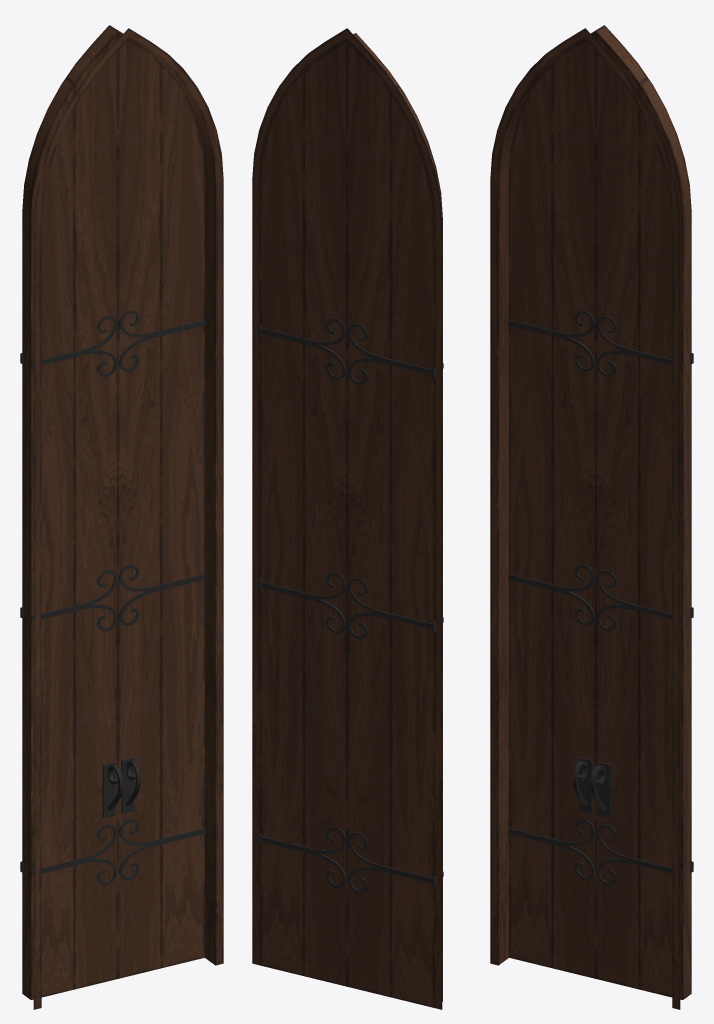
Rendered from Door_G_Frame.fbx.
3 renders of one model, left to right at view 1: azimuth 30°, elevation 25°; view 2: azimuth 150°, elevation 25°; view 3: azimuth 330°, elevation 25°, orthographic.
Parts seen in each view (by area): view 1: Door_G_B, Door_G_A, Door_G_Frame; view 2: Door_G_B, Door_G_A, Door_G_Frame; view 3: Door_G_A, Door_G_B, Door_G_Frame.
Boxes of the visible parts, left/top/right/bottom form: Door_G_B: left=20, top=25, right=123, bottom=999; Door_G_A: left=111, top=26, right=205, bottom=978; Door_G_Frame: left=33, top=28, right=223, bottom=1009; Door_G_B: left=347, top=33, right=443, bottom=1007; Door_G_A: left=258, top=33, right=354, bottom=986; Door_G_Frame: left=252, top=28, right=442, bottom=1009; Door_G_A: left=582, top=25, right=693, bottom=999; Door_G_B: left=508, top=26, right=602, bottom=978; Door_G_Frame: left=490, top=28, right=680, bottom=1009.
Bounding box in the file's own units: 1.1 × 0.2239 × 5.3.
